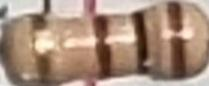Black: (131, 9, 154, 76)
Brown: (90, 11, 117, 78), (168, 0, 188, 80)
Side-Gold: (32, 15, 58, 85)
